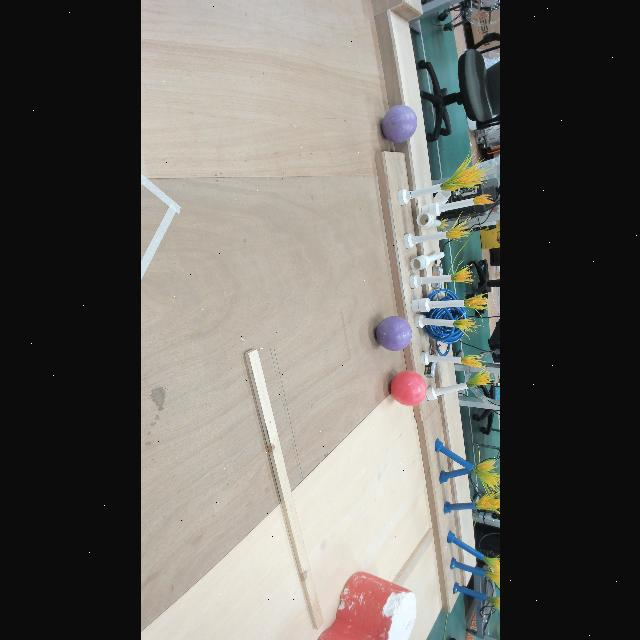P: (381, 105, 417, 143), (376, 316, 412, 352)
R: (390, 370, 428, 406)
